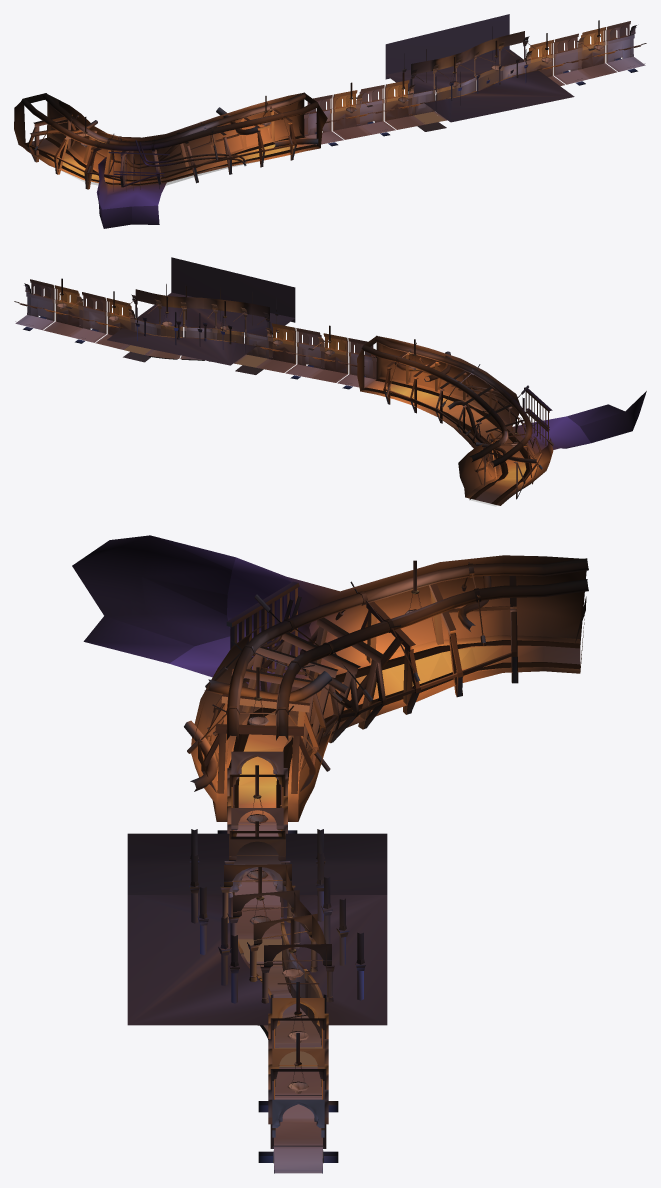
The model's file is 07Cave.gltf.
3 views of the same model, one above another, from view 1: azimuth 30°, elevation 25°; view 2: azimuth 150°, elevation 25°; view 3: azimuth 270°, elevation 25° (orthographic). The views are drawn at different scales.
Parts seen in each view (by area): view 1: stg030_o09_Mesh_2, stg030_o08_Mesh_16, stg030_o08_Mesh_2, stg030_o08_Mesh_37, stg030_o09_Mesh_1, stg030_o09_Mesh_6, stg030_o08_Mesh_45, stg030_o08_Mesh_11, stg030_o08_Mesh_19, stg030_o08_Mesh_42, stg030_o08_Mesh_27, stg030_g09_Mesh_0 (+12 smaller); view 2: stg030_o09_Mesh_2, stg030_o08_Mesh_2, stg030_o08_Mesh_16, stg030_o08_Mesh_37, stg030_o09_Mesh_1, stg030_o09_Mesh_6, stg030_o08_Mesh_45, stg030_o08_Mesh_19, stg030_o08_Mesh_11, stg030_g09_Mesh_0, stg030_o08_Mesh_42, stg030_o08_Mesh_27 (+10 smaller); view 3: stg030_o09_Mesh_2, stg030_o08_Mesh_16, stg030_o08_Mesh_37, stg030_o09_Mesh_1, stg030_o08_Mesh_2, stg030_o09_Mesh_6, stg030_o08_Mesh_45, stg030_o08_Mesh_8, stg030_o08_Mesh_42, stg030_g09_Mesh_0, stg030_a09_Mesh_0, stg030_o08_Mesh_12 (+9 smaller).
Boxes of the visible parts, x1,y1,x2,y2 form: stg030_o09_Mesh_2: [14, 93, 327, 228]; stg030_o08_Mesh_16: [307, 24, 629, 122]; stg030_o08_Mesh_2: [308, 14, 629, 133]; stg030_o08_Mesh_37: [27, 26, 619, 191]; stg030_o09_Mesh_1: [21, 92, 318, 168]; stg030_o09_Mesh_6: [22, 134, 319, 185]; stg030_o08_Mesh_45: [309, 57, 640, 144]; stg030_o08_Mesh_11: [304, 33, 646, 123]; stg030_o08_Mesh_19: [308, 26, 634, 140]; stg030_o08_Mesh_42: [308, 25, 641, 140]; stg030_o08_Mesh_27: [304, 21, 645, 136]; stg030_g09_Mesh_0: [23, 135, 317, 185]; stg030_o09_Mesh_2: [357, 336, 646, 496]; stg030_o08_Mesh_2: [31, 257, 372, 376]; stg030_o08_Mesh_16: [31, 283, 373, 365]; stg030_o08_Mesh_37: [41, 285, 553, 499]; stg030_o09_Mesh_1: [361, 335, 536, 467]; stg030_o09_Mesh_6: [361, 377, 535, 505]; stg030_o08_Mesh_45: [20, 316, 371, 387]; stg030_o08_Mesh_19: [26, 284, 372, 383]; stg030_o08_Mesh_11: [14, 291, 377, 366]; stg030_g09_Mesh_0: [363, 378, 531, 504]; stg030_o08_Mesh_42: [19, 284, 372, 384]; stg030_o08_Mesh_27: [15, 279, 376, 379]; stg030_o09_Mesh_2: [72, 535, 586, 821]; stg030_o08_Mesh_16: [127, 829, 387, 1025]; stg030_o08_Mesh_37: [187, 562, 518, 1148]; stg030_o09_Mesh_1: [184, 558, 588, 791]; stg030_o08_Mesh_2: [127, 751, 387, 1155]; stg030_o09_Mesh_6: [217, 636, 580, 821]; stg030_o08_Mesh_45: [234, 827, 322, 1168]; stg030_o08_Mesh_8: [127, 865, 387, 887]; stg030_o08_Mesh_42: [224, 768, 331, 1169]; stg030_g09_Mesh_0: [227, 640, 580, 821]; stg030_a09_Mesh_0: [216, 635, 580, 821]; stg030_o08_Mesh_12: [127, 830, 387, 987].
Size of the model in its own units: 163 by 22.32 by 63.13.
